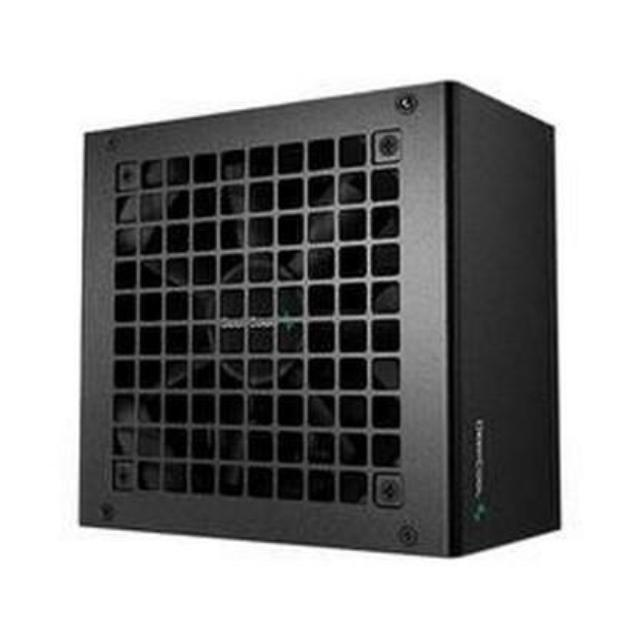PSU: (47, 66, 570, 578)
